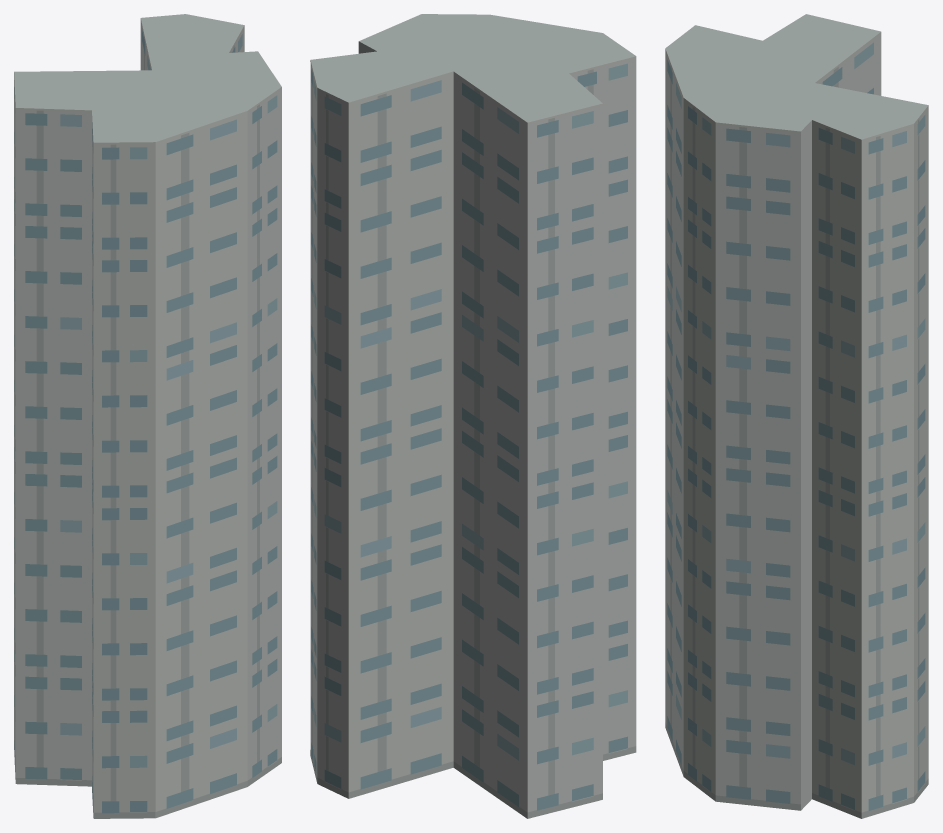
The model's file is residential-cee8f323-9fd9-4906-8b42-c90156ad9a0e.glb.
The picture shows the model from 3 angles, left to right: view 1: azimuth 30°, elevation 25°; view 2: azimuth 150°, elevation 25°; view 3: azimuth 270°, elevation 25°; orthographic projection. The views are drawn at different scales.
Visible parts, largest first — view 1: residential-cee8f323-9fd9-4906-8b42-c90156ad9a0e.tmp; view 2: residential-cee8f323-9fd9-4906-8b42-c90156ad9a0e.tmp; view 3: residential-cee8f323-9fd9-4906-8b42-c90156ad9a0e.tmp.
Boxes of the visible parts, x1,y1,x2,y2 form: residential-cee8f323-9fd9-4906-8b42-c90156ad9a0e.tmp: (14, 14, 281, 818); residential-cee8f323-9fd9-4906-8b42-c90156ad9a0e.tmp: (310, 14, 636, 818); residential-cee8f323-9fd9-4906-8b42-c90156ad9a0e.tmp: (665, 14, 928, 818).
Bounding box in the file's own units: 33.34 × 84 × 29.52.
